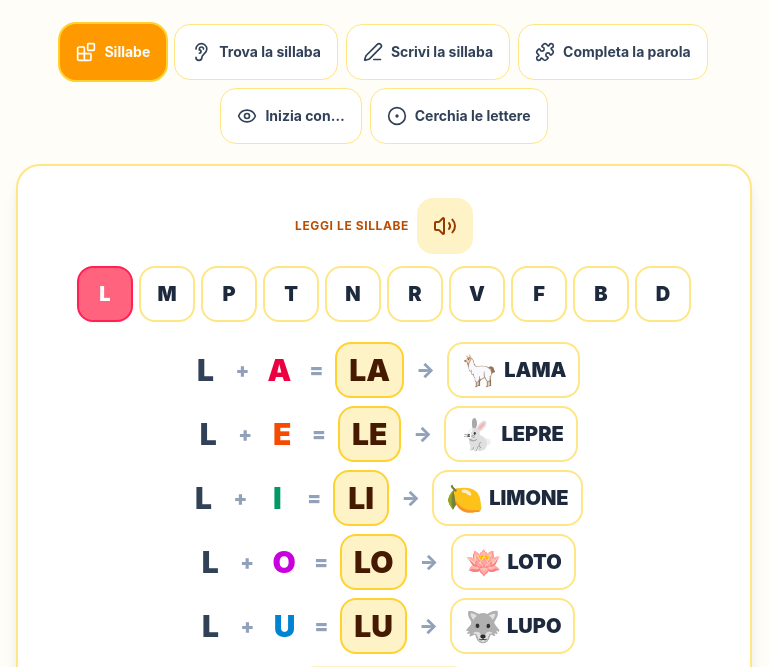
Test: Leggi le sillabe › switches consonant
This screenshot has width=769, height=667.
Click the button named "Consonante M". click: (167, 294)
box: [139,266,195,322]
(page scrolled)
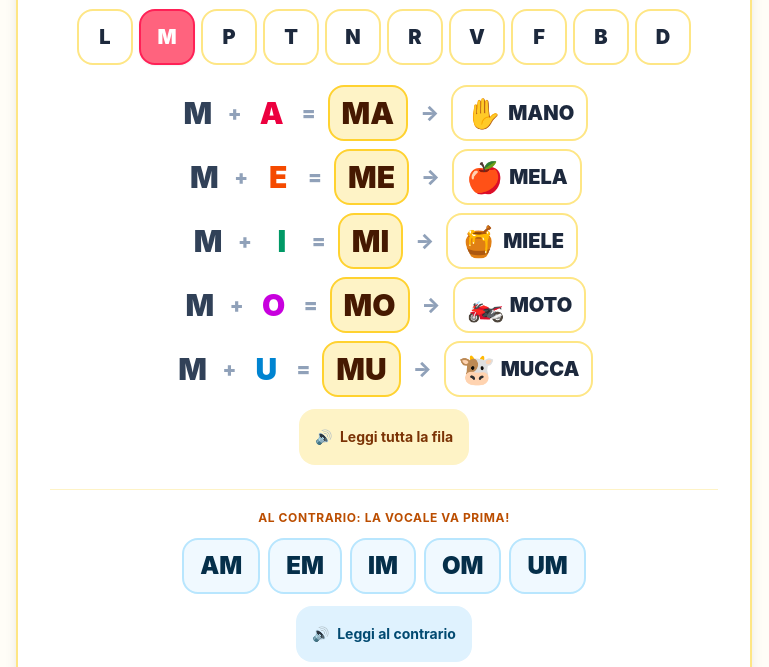
Expected: the list item "M + A = MA → ✋ MANO" is shown, [160,85,608,141]
Expected: the button with aria-label "Ascolta la sillaba UM" is shown, [510,538,586,594]
